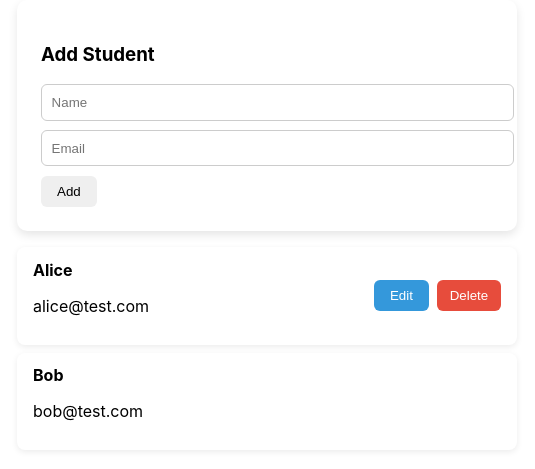
Scenario: StudentForm component › populates form when edit is clicked
Expected: the text "Alice" is shown, [33,260,73,280]
Click the button "Edit" at (401, 296), box [374,280,429,311]
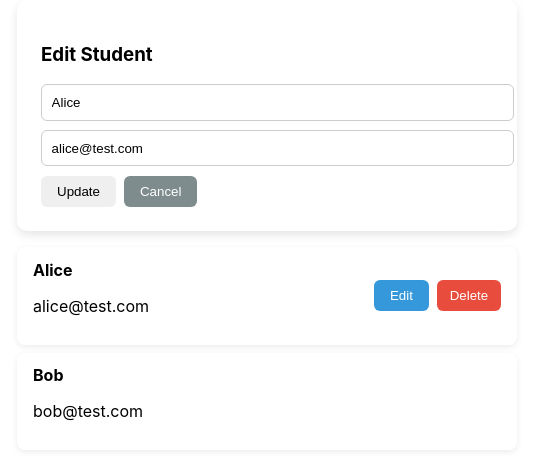
Result: the 1st field with placeholder "Name" holds "Alice" at [41,84,514,121]
Result: the 2nd field with placeholder "Email" holds "alice@test.com" at [41,130,514,166]
